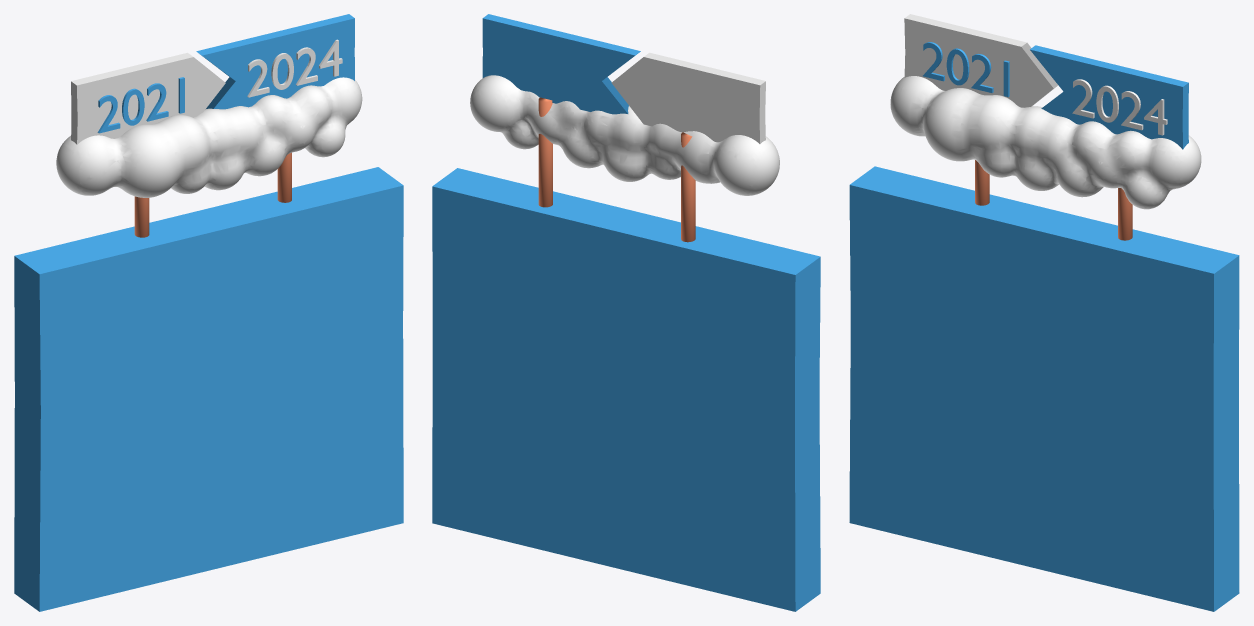
3 views of the same model, side by side, from view 1: azimuth 30°, elevation 25°; view 2: azimuth 150°, elevation 25°; view 3: azimuth 330°, elevation 25° (orthographic).
Parts seen in each view (by area): view 1: Cube.008, Mball.020, Cube.002, Cube.003, Text.009, Text.011, Cylinder.001, Cylinder; view 2: Cube.008, Mball.020, Cube.002, Cube.003, Cylinder.001, Cylinder; view 3: Cube.008, Mball.020, Cube.002, Cube.003, Text.009, Text.011, Cylinder.001, Cylinder.
Part boxes in pixels (bbox=[...]): Cube.008: bbox=[14, 167, 403, 611]; Mball.020: bbox=[56, 77, 362, 197]; Cube.002: bbox=[196, 14, 354, 109]; Cube.003: bbox=[71, 52, 225, 144]; Text.009: bbox=[247, 39, 342, 97]; Text.011: bbox=[97, 77, 184, 133]; Cylinder.001: bbox=[277, 152, 291, 202]; Cylinder: bbox=[134, 196, 149, 237]; Cube.008: bbox=[432, 168, 820, 611]; Mball.020: bbox=[470, 75, 779, 195]; Cube.002: bbox=[482, 14, 640, 114]; Cube.003: bbox=[611, 52, 765, 143]; Cylinder.001: bbox=[538, 97, 552, 207]; Cylinder: bbox=[681, 132, 695, 242]; Cube.008: bbox=[849, 166, 1239, 611]; Mball.020: bbox=[890, 76, 1201, 209]; Cube.002: bbox=[1030, 45, 1188, 149]; Cube.003: bbox=[904, 14, 1058, 107]; Text.009: bbox=[1072, 79, 1167, 135]; Text.011: bbox=[923, 42, 1009, 97]; Cylinder.001: bbox=[1118, 188, 1132, 240]; Cylinder: bbox=[975, 160, 989, 205].
Size of the model in its own units: 11.27 by 15.04 by 2.42.
